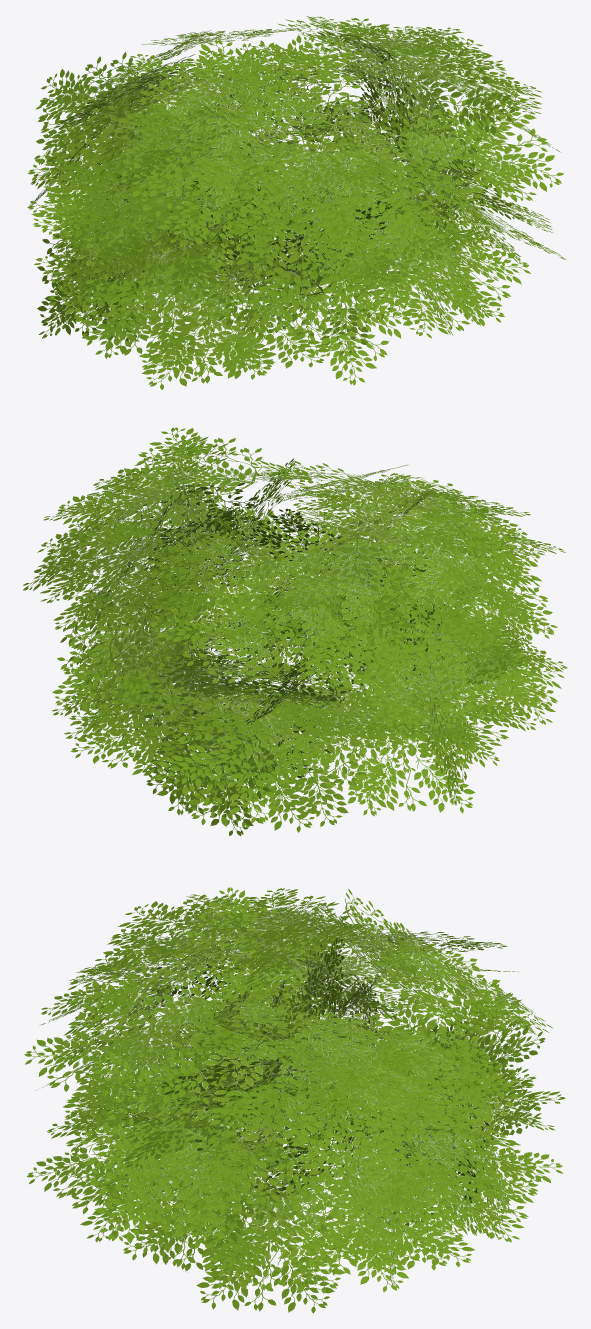
Rendered from Planta_berry.glb.
The picture shows the model from 3 angles, top to bottom: view 1: azimuth 30°, elevation 25°; view 2: azimuth 150°, elevation 25°; view 3: azimuth 270°, elevation 25°; orthographic projection. The views are drawn at different scales.
Parts seen in each view (by area): view 1: leaves; view 2: leaves; view 3: leaves.
Part boxes in pixels (<box>): leaves: <box>27,16,566,389</box>; leaves: <box>23,427,567,835</box>; leaves: <box>24,887,565,1313</box>.
Size of the model in its own units: 4.17 by 2.37 by 3.88.
1 material, 1 textured.
